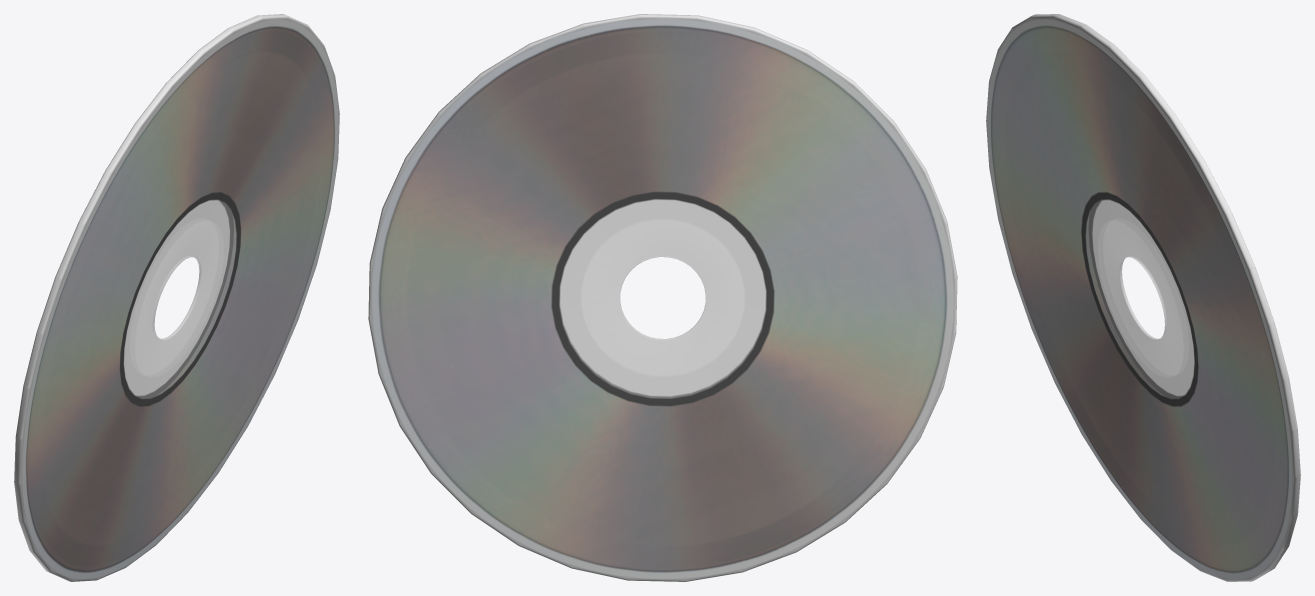
Rendered from disc.glb.
3 views of the same model, side by side, from view 1: azimuth 30°, elevation 25°; view 2: azimuth 150°, elevation 25°; view 3: azimuth 270°, elevation 25° (orthographic). The views are drawn at different scales.
Visible parts, largest first — view 1: Object_2; view 2: Object_2; view 3: Object_2.
Boxes of the visible parts, bbox=[...] form: Object_2: bbox=[14, 14, 339, 581]; Object_2: bbox=[368, 14, 957, 581]; Object_2: bbox=[986, 14, 1300, 581].
Bounding box in the file's own units: 3.76 × 4.22 × 2.22.
1 material, 1 textured.
